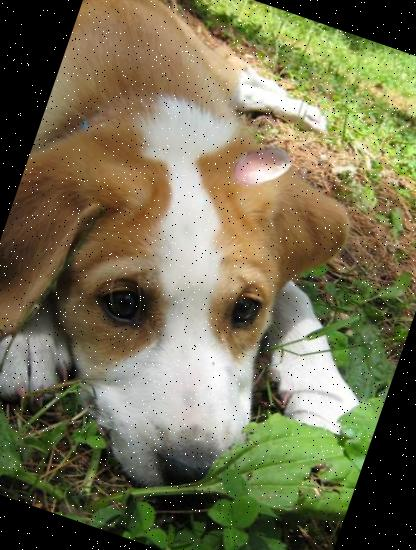Hazelnut: (221, 126, 302, 207)
